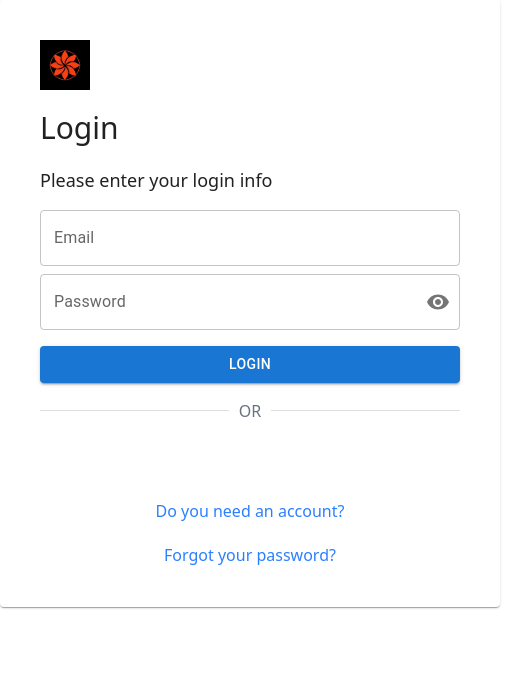
Scenario: SignInPage - User Flows › Login Flow › shows error message when login fails
In the field labelled "Email": (250, 238) [40,210,460,266], type "user@example.com"
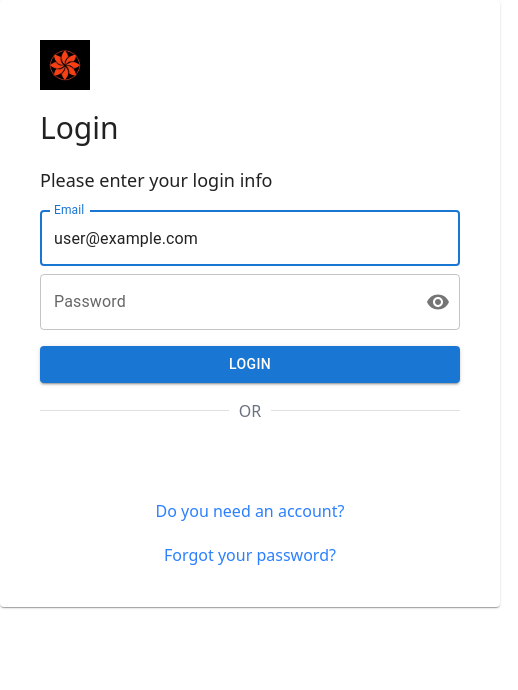
In the password field labelled "Password": (225, 302) [40,274,410,330], type "wrong-password"
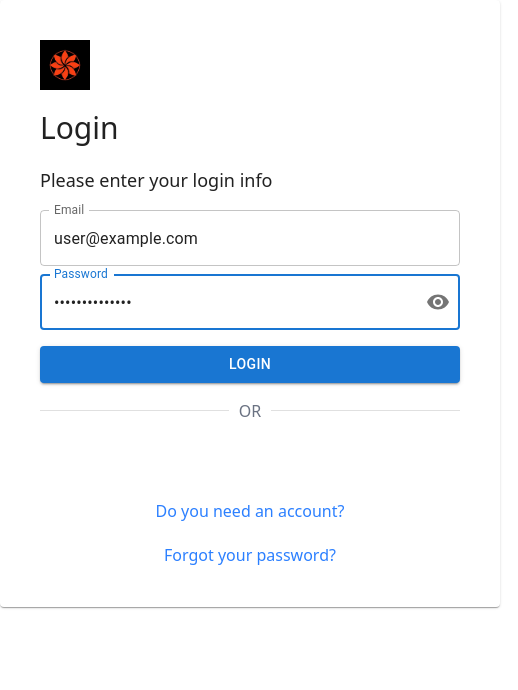
Click the button with test id "login-button": click(250, 364) [40,346,460,382]
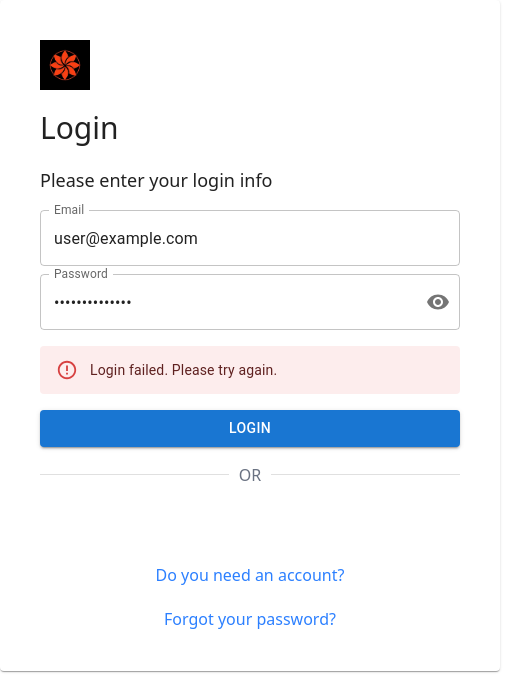
Result: the text "Login failed. Please try again." is shown at [90,362,277,378]
